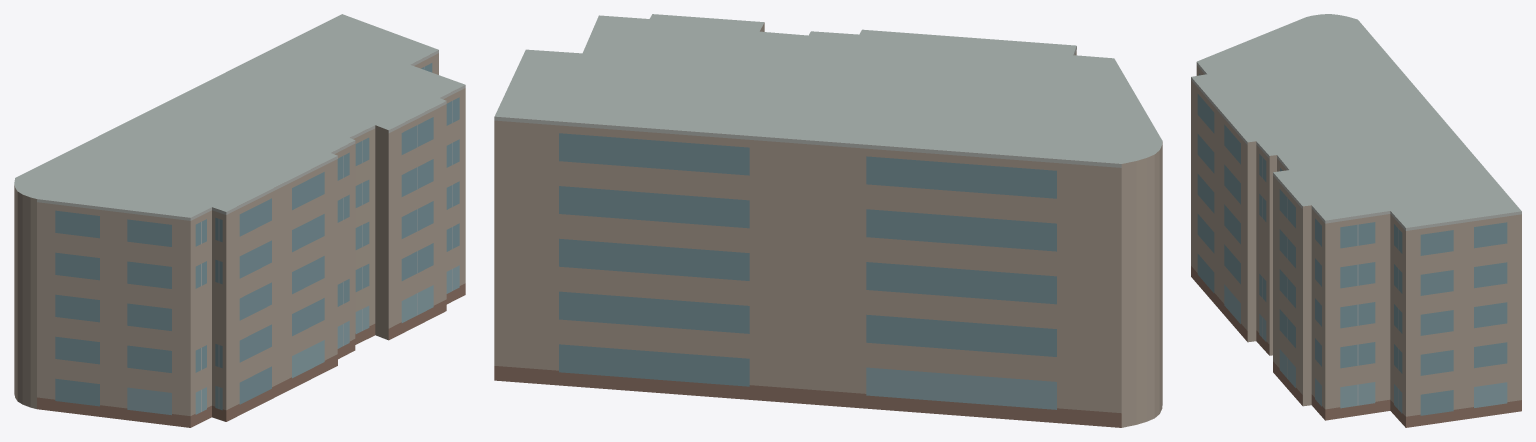
The model's file is survey-upis-32648793.glb.
3 renders of one model, left to right at view 1: azimuth 30°, elevation 25°; view 2: azimuth 150°, elevation 25°; view 3: azimuth 270°, elevation 25°, orthographic. The views are drawn at different scales.
Visible parts, largest first — view 1: survey-upis-32648793.tmp; view 2: survey-upis-32648793.tmp; view 3: survey-upis-32648793.tmp.
Boxes of the visible parts, x1,y1,x2,y2 form: survey-upis-32648793.tmp: (14, 14, 465, 427); survey-upis-32648793.tmp: (494, 14, 1162, 427); survey-upis-32648793.tmp: (1191, 14, 1521, 427).
Size of the model in its own units: 37.67 by 16.4 by 24.61.
